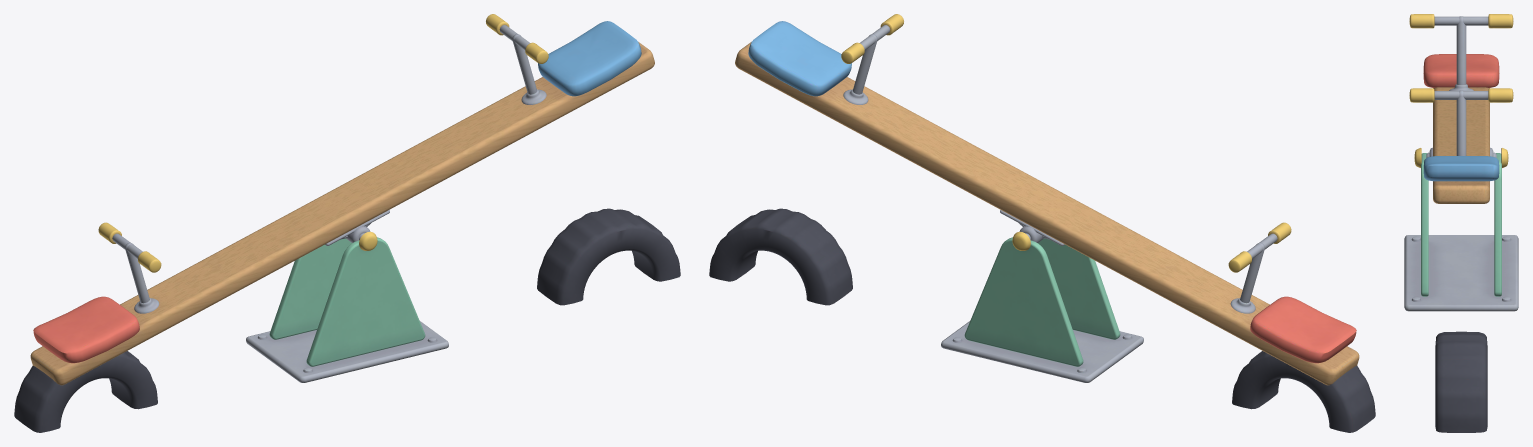
File: seesaw.glb
The picture shows the model from 3 angles, left to right: view 1: azimuth 30°, elevation 25°; view 2: azimuth 150°, elevation 25°; view 3: azimuth 270°, elevation 25°; orthographic projection.
Parts seen in each view (by area): view 1: seesaw_beam, seesaw_body; view 2: seesaw_beam, seesaw_body; view 3: seesaw_body, seesaw_beam.
Part boxes in pixels (<box>): seesaw_beam: <box>30,14,654,385</box>; seesaw_body: <box>14,208,680,432</box>; seesaw_beam: <box>735,14,1359,385</box>; seesaw_body: <box>709,208,1375,432</box>; seesaw_body: <box>1404,148,1518,432</box>; seesaw_beam: <box>1409,14,1513,203</box>.
Bounding box in the file's own units: 3.12 × 1.25 × 0.48.
Materials: 2 (2 with a texture image).
